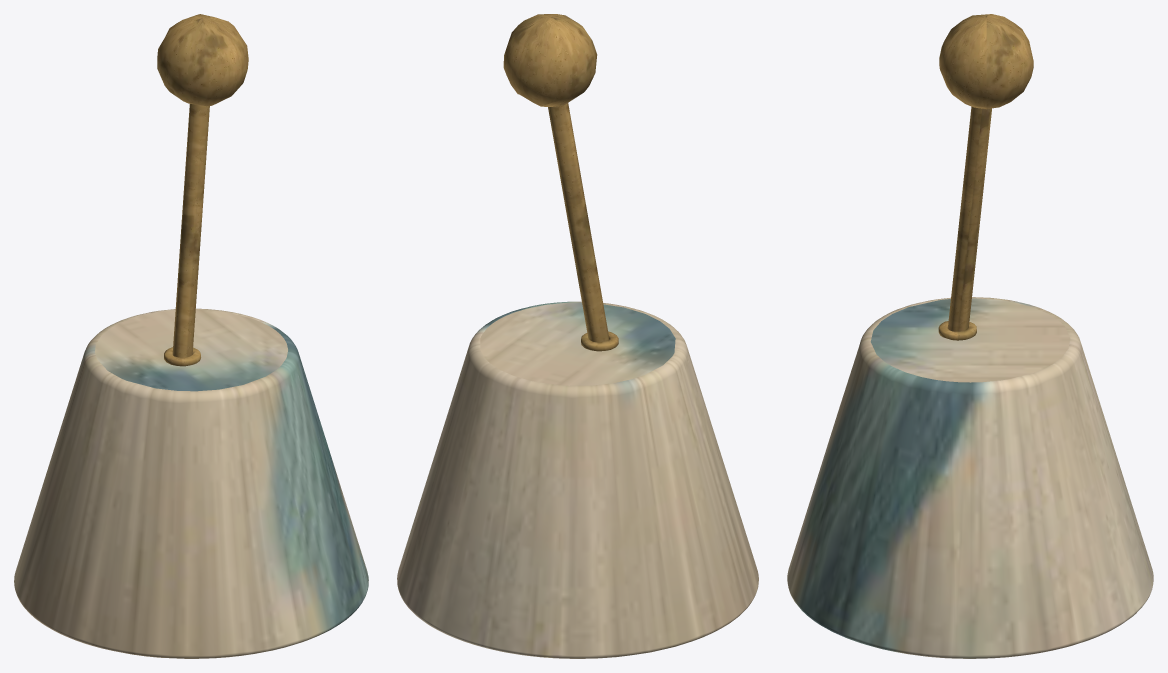
File: Medenka_06_Spendlik_bila.glb
3 renders of one model, left to right at view 1: azimuth 30°, elevation 25°; view 2: azimuth 150°, elevation 25°; view 3: azimuth 270°, elevation 25°, orthographic. The views are drawn at different scales.
Parts seen in each view (by area): view 1: Telo, Hlavicka, Jehla; view 2: Telo, Hlavicka, Jehla; view 3: Telo, Hlavicka, Jehla.
Part boxes in pixels (x1,y1,x2,y2): Telo: (14,308,368,658); Hlavicka: (157,14,248,106); Jehla: (172,104,209,357); Telo: (397,301,758,658); Hlavicka: (503,14,597,106); Jehla: (548,103,609,342); Telo: (787,297,1153,658); Hlavicka: (939,14,1033,109); Jehla: (947,106,991,331).
Size of the model in its own units: 0.0397 by 0.0687 by 0.0397.
Materials: 3 (3 with a texture image).
